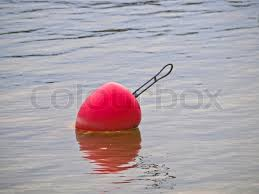buoy: (76, 84, 143, 132)
